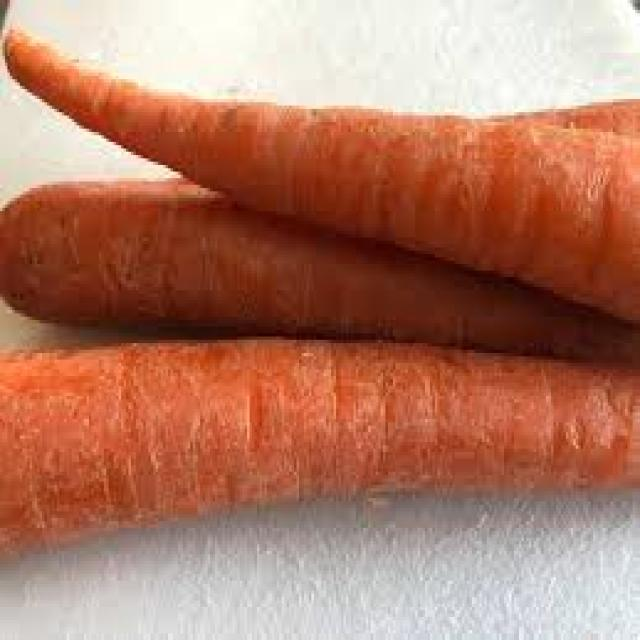Fresh_Carrot: (0, 180, 640, 553), (5, 30, 640, 321)
